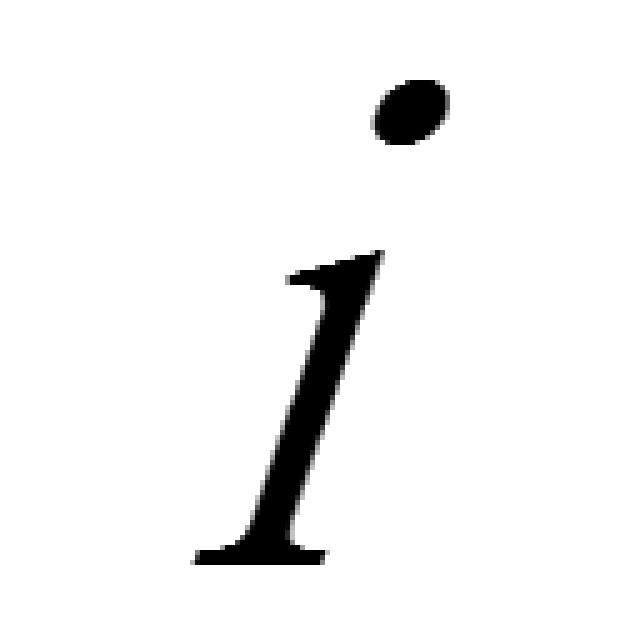I: (187, 77, 449, 576)
